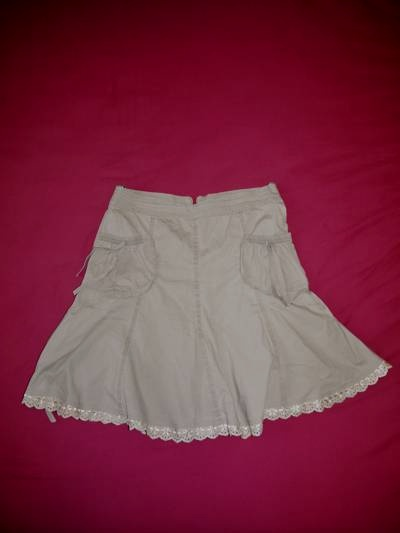Dress: (18, 118, 400, 464)
